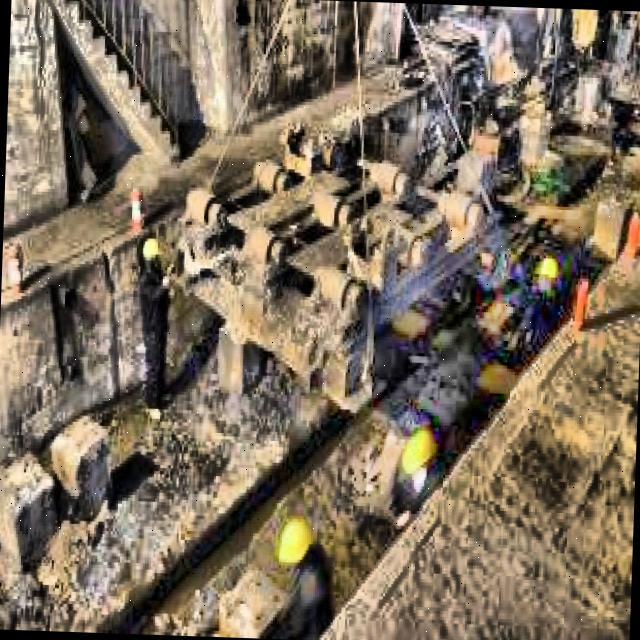helmet: (270, 514, 311, 574), (401, 421, 432, 486), (138, 228, 164, 272), (536, 252, 560, 293)
